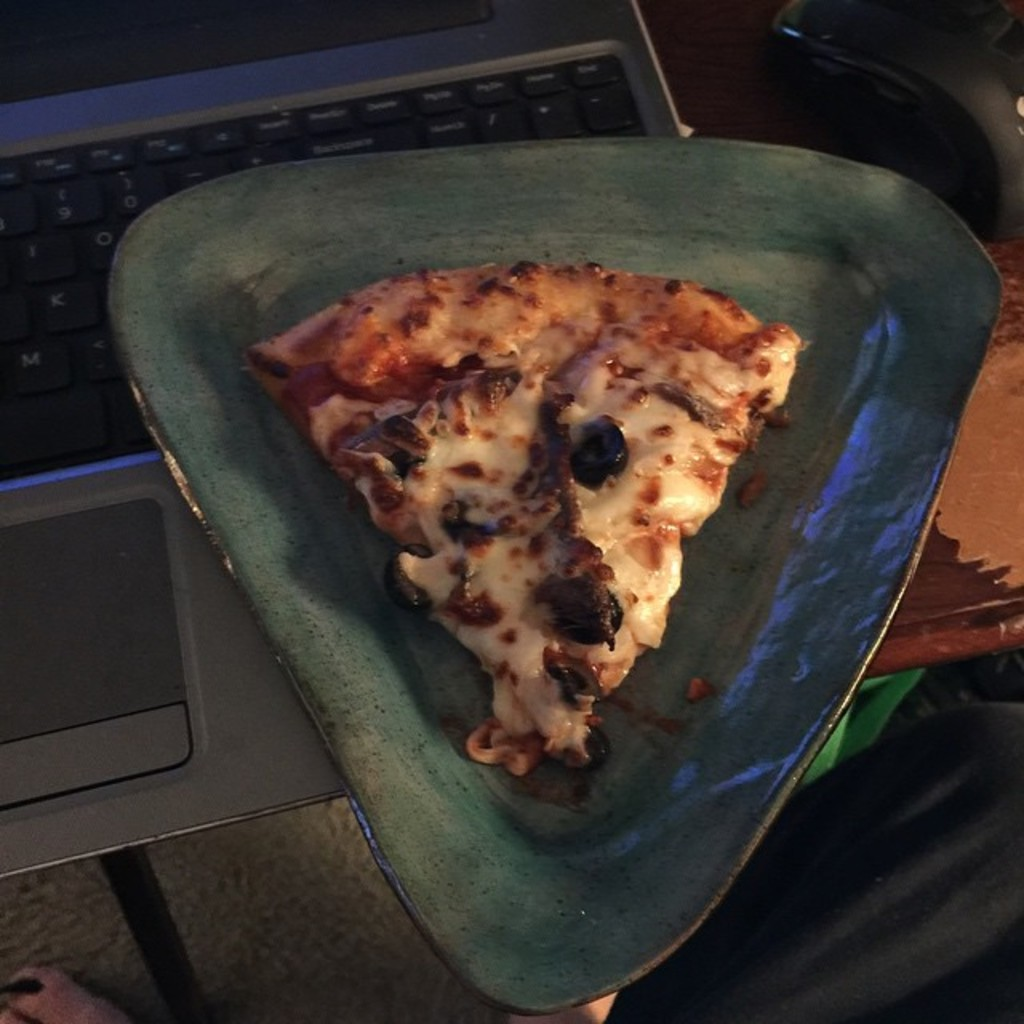Pizza: (291, 220, 782, 798)
